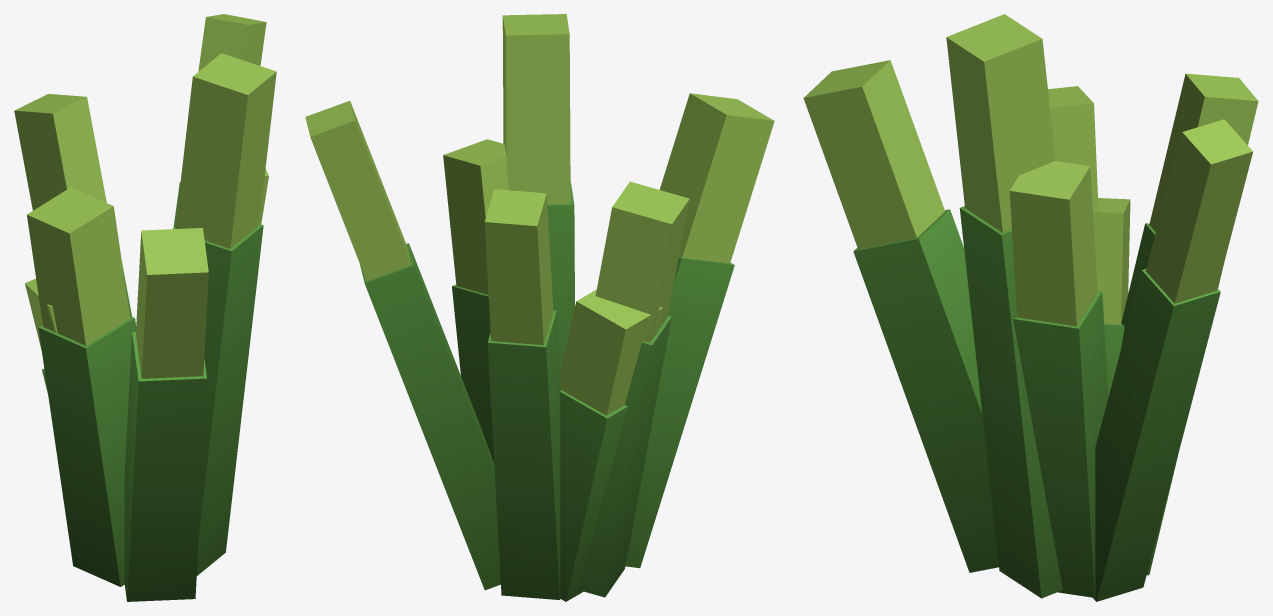
File: B02_grass_medium.glb
3 views of the same model, side by side, from view 1: azimuth 30°, elevation 25°; view 2: azimuth 150°, elevation 25°; view 3: azimuth 270°, elevation 25° (orthographic). The views are drawn at different scales.
Parts seen in each view (by area): view 1: B02_grass_medium; view 2: B02_grass_medium; view 3: B02_grass_medium.
Boxes of the visible parts, x1=… form: B02_grass_medium: x1=14, y1=14, x2=276, y2=601; B02_grass_medium: x1=305, y1=14, x2=774, y2=601; B02_grass_medium: x1=803, y1=14, x2=1258, y2=601.
Size of the model in its own units: 0.4952 by 0.8023 by 0.5846.
